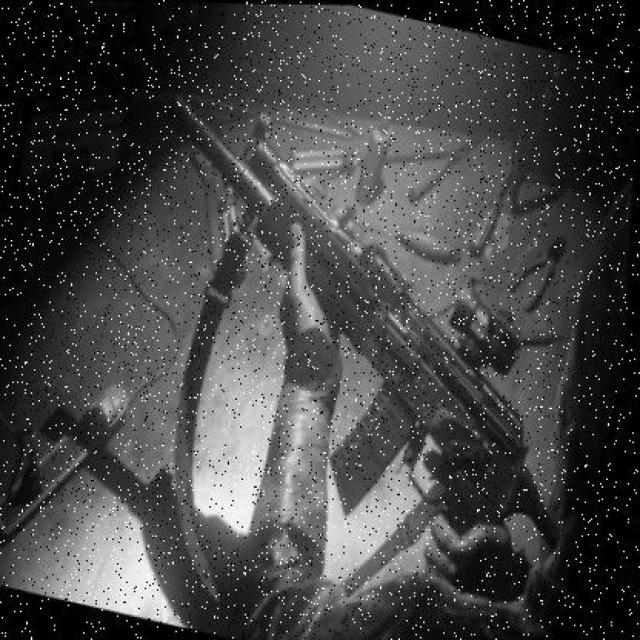weapon: (171, 102, 557, 604)
